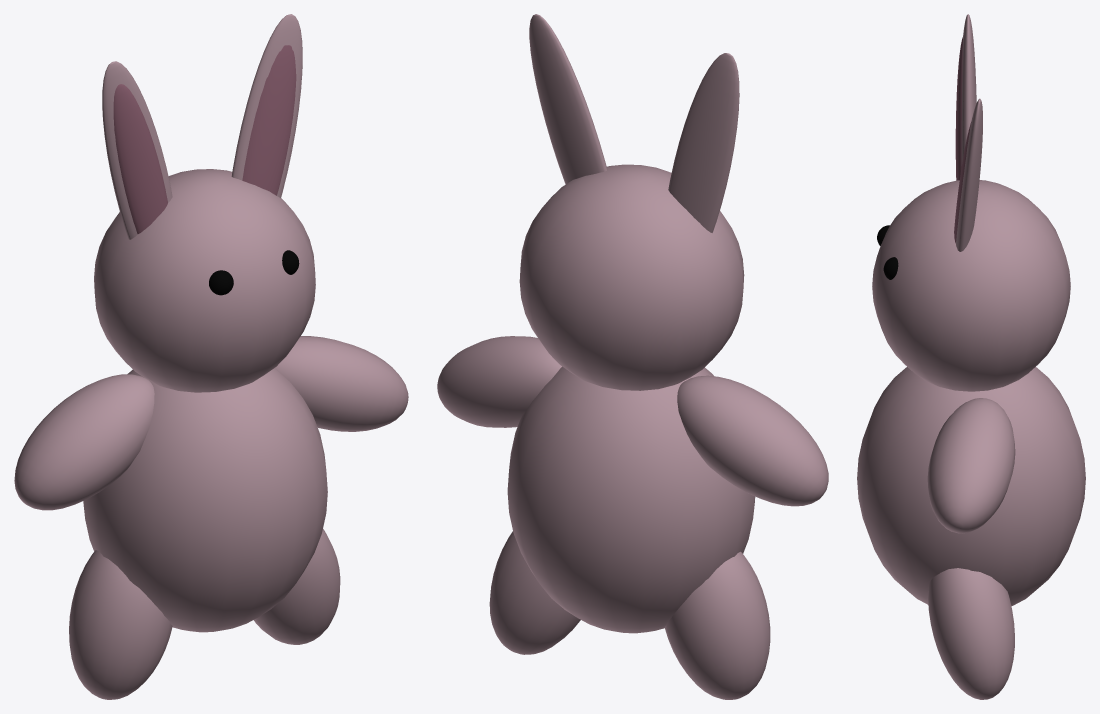
File: bunbun.fbx
3 views of the same model, side by side, from view 1: azimuth 30°, elevation 25°; view 2: azimuth 150°, elevation 25°; view 3: azimuth 270°, elevation 25° (orthographic). The views are drawn at different scales.
Parts seen in each view (by area): view 1: pSphere4, pSphere1, pSphere8, pSphere5, pSphere7, pSphere6, pSphere13, pSphere12, pSphere3, pSphere2; view 2: pSphere4, pSphere1, pSphere8, pSphere5, pSphere7, pSphere2, pSphere3, pSphere6; view 3: pSphere4, pSphere1, pSphere7, pSphere6, pSphere3, pSphere2, pSphere12, pSphere13.
Boxes of the visible parts, x1,y1,x2,y2 form: pSphere4: [83, 368, 327, 632]; pSphere1: [94, 169, 315, 392]; pSphere8: [14, 374, 154, 510]; pSphere5: [69, 550, 172, 699]; pSphere7: [275, 336, 408, 431]; pSphere6: [254, 529, 340, 644]; pSphere13: [242, 45, 296, 195]; pSphere12: [113, 84, 167, 233]; pSphere3: [231, 14, 302, 197]; pSphere2: [102, 61, 172, 239]; pSphere4: [507, 366, 755, 633]; pSphere1: [519, 164, 744, 390]; pSphere8: [677, 375, 828, 506]; pSphere5: [664, 551, 770, 699]; pSphere7: [437, 336, 561, 427]; pSphere2: [668, 53, 739, 232]; pSphere3: [529, 14, 607, 184]; pSphere6: [489, 531, 580, 654]; pSphere4: [857, 367, 1085, 606]; pSphere1: [872, 180, 1070, 391]; pSphere7: [927, 398, 1015, 533]; pSphere6: [928, 568, 1014, 699]; pSphere3: [956, 98, 982, 251]; pSphere2: [961, 14, 976, 165]; pSphere12: [955, 37, 962, 180]; pSphere13: [954, 122, 971, 243].
Bounding box in the file's own units: 1.04 × 1.65 × 0.5741.
